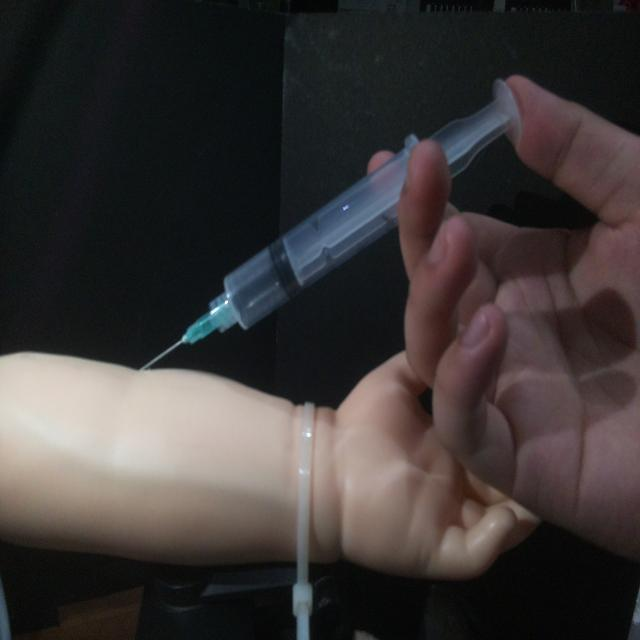27deg: (135, 74, 525, 374)
